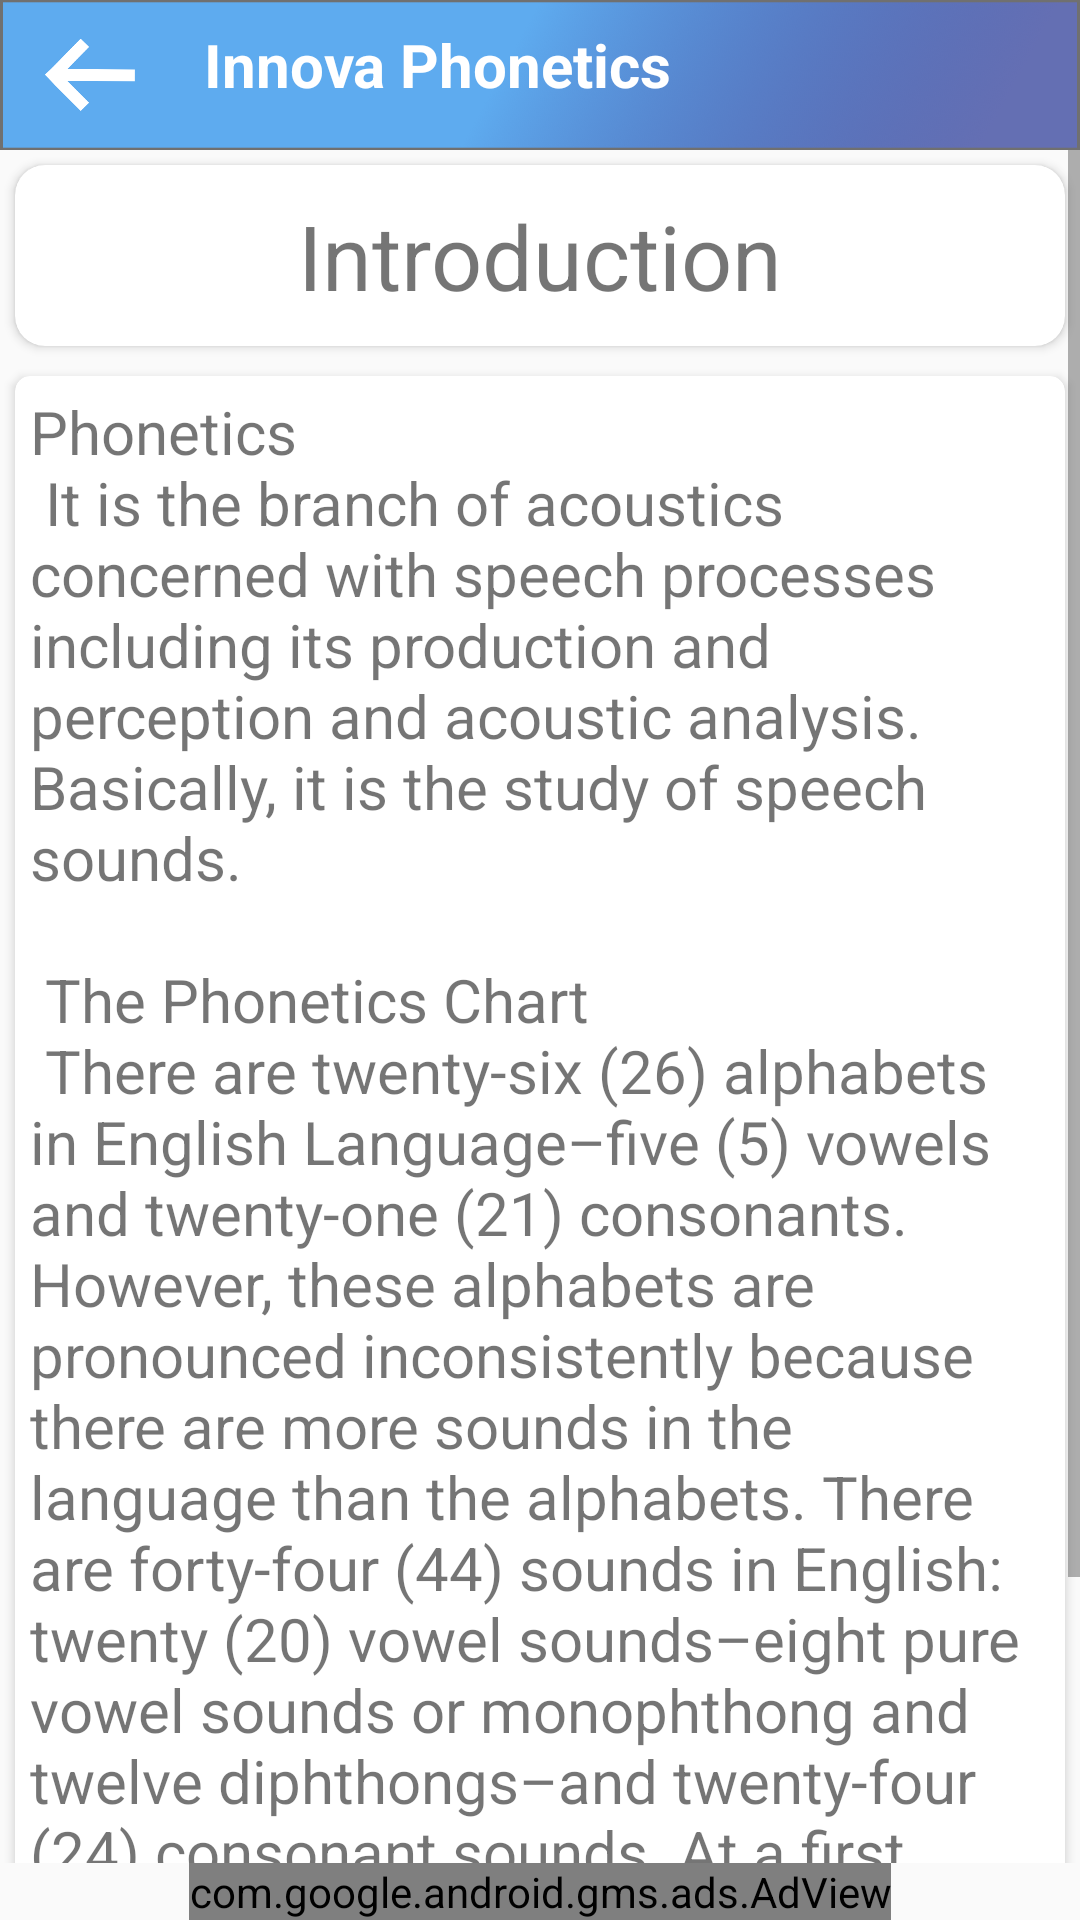

Screen size 1080×1920. Icon name, then its box in pixels as (x1, y1, x2, y2):
back: (45, 39, 135, 111)
